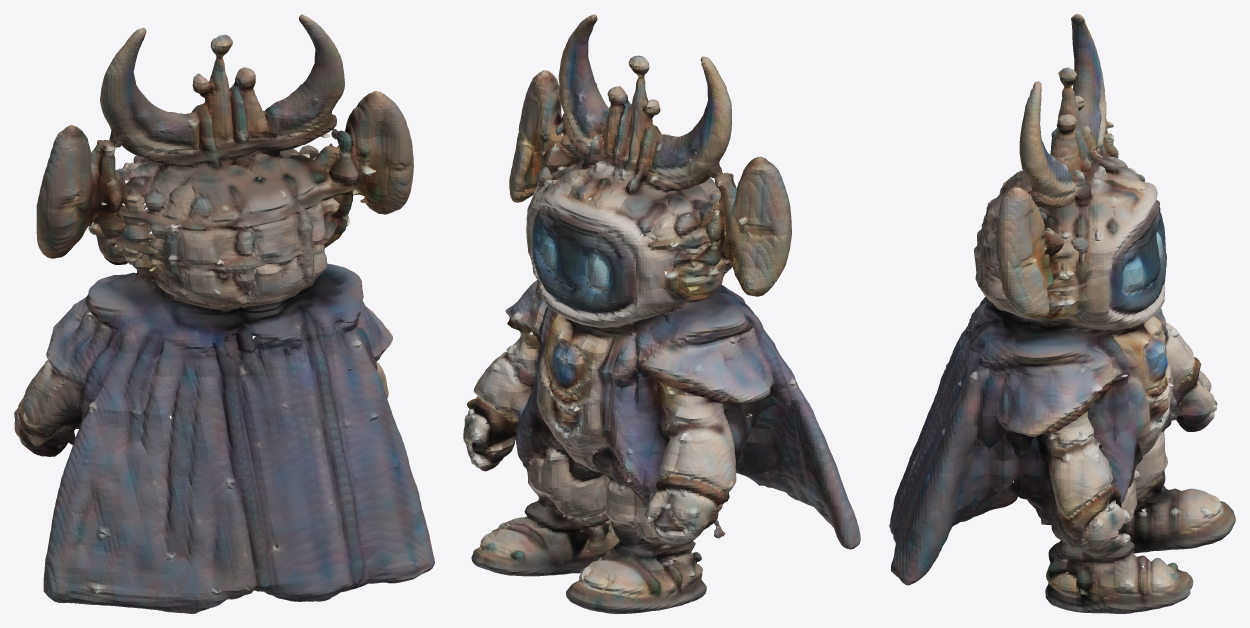
The model's file is virgil-model-candidate-01.glb.
The picture shows the model from 3 angles, left to right: view 1: azimuth 30°, elevation 25°; view 2: azimuth 150°, elevation 25°; view 3: azimuth 270°, elevation 25°; orthographic projection. The views are drawn at different scales.
Visible parts, largest first — view 1: world; view 2: world; view 3: world.
Part boxes in pixels (x1,y1,x2,y2): world: (14, 14, 434, 613); world: (463, 14, 860, 613); world: (889, 14, 1235, 613).
Size of the model in its own units: 0.7005 by 1.02 by 0.6097.
